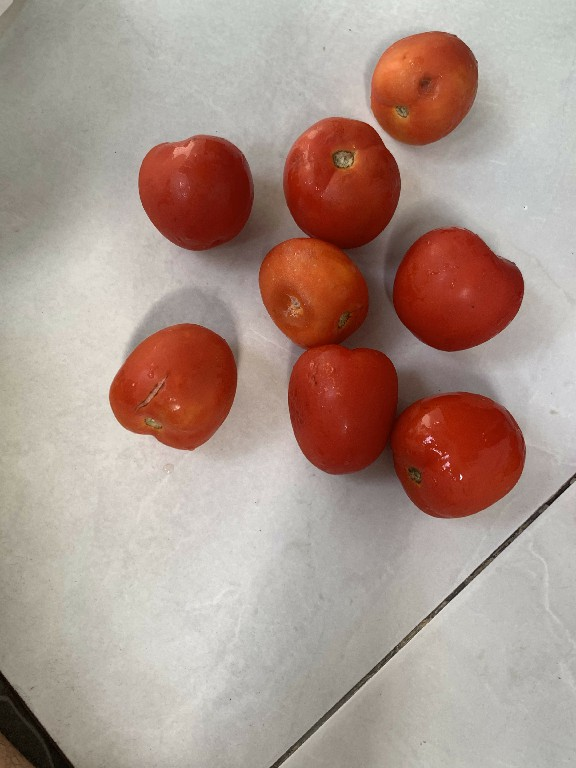NG: (105, 321, 233, 452), (369, 24, 486, 147), (253, 231, 369, 350)
OK: (388, 388, 525, 521), (392, 215, 522, 353), (278, 116, 398, 247), (282, 340, 396, 477), (137, 128, 257, 253)
